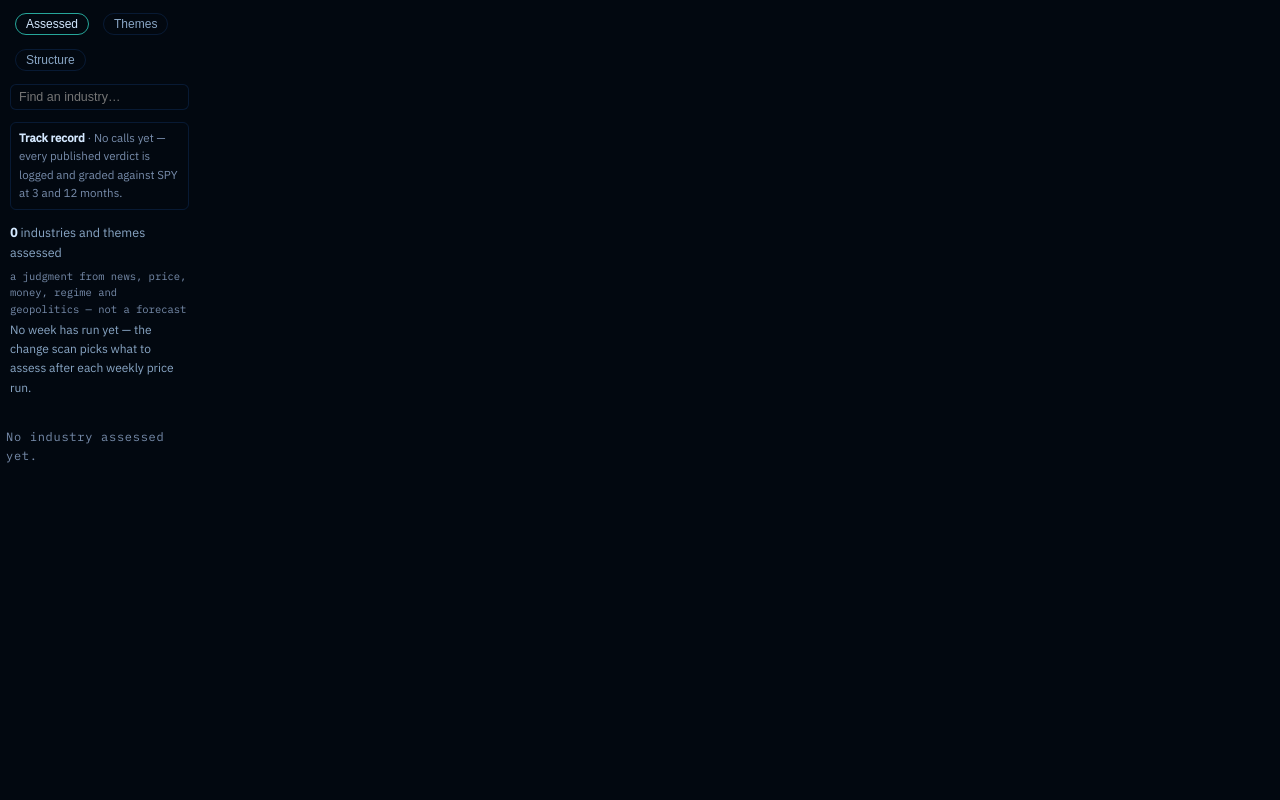
Test case: IndustryView › a measured grade is marked as not yet reviewed; an answered one opens to its reasoning
Click the tab "Structure" at (50, 60), box [15,49,86,71]
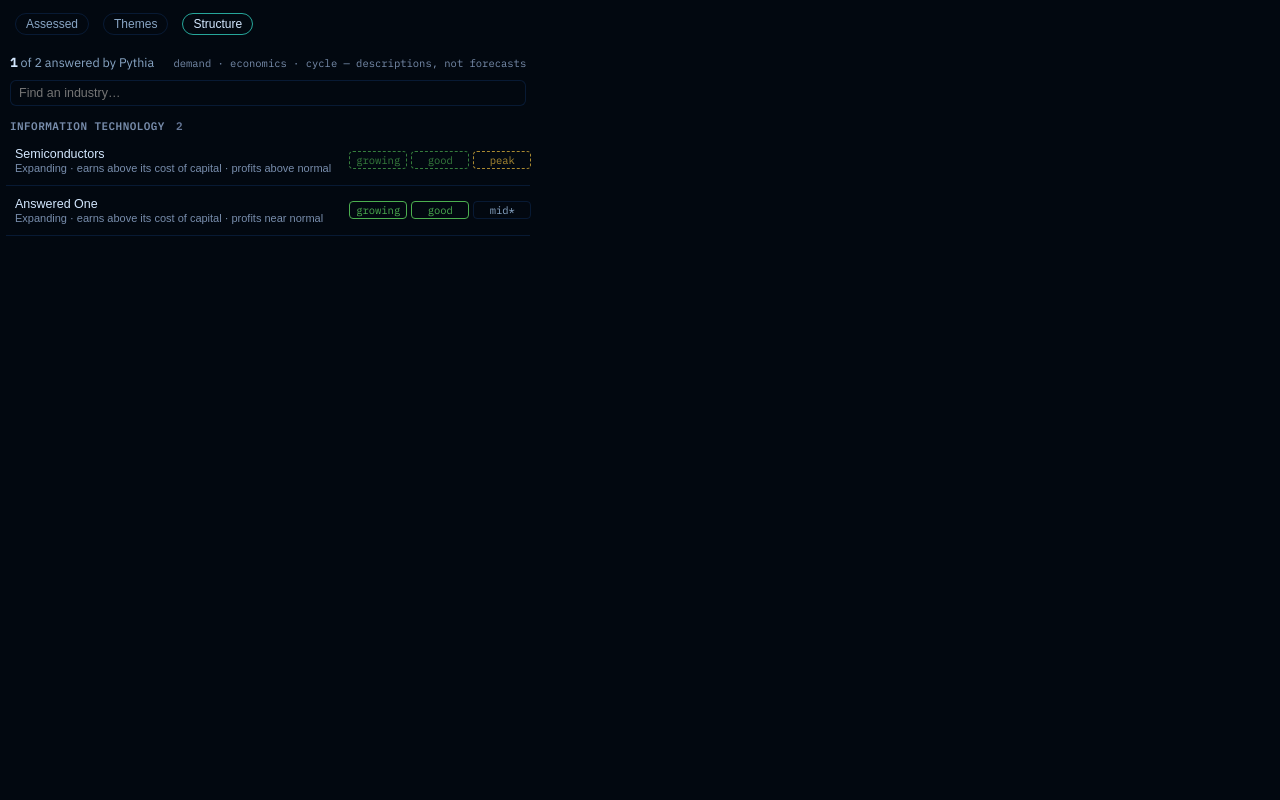
Check: the number of elements with class "industry-grade--measured" is 3, box [349,151,407,169]; [411,151,469,169]; [473,151,531,169]
Click the text "Answered One" at (56, 204), box [15,197,98,211]
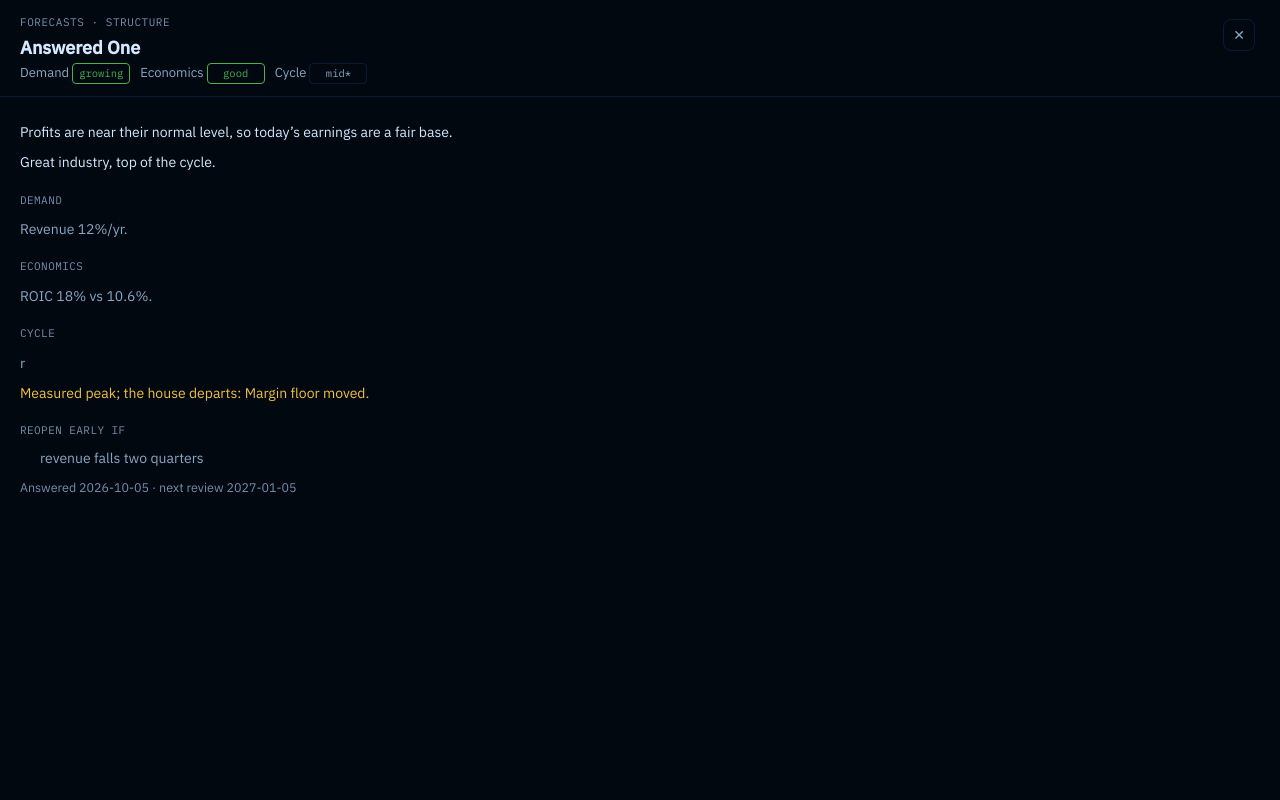
Check: the text "Measured peak; the house departs: Margin floor moved." is shown, box [20,384,369,402]
Check: the text "Answered 2026-10-05 · next review 2027-01-05" is shown, box [20,479,296,495]
